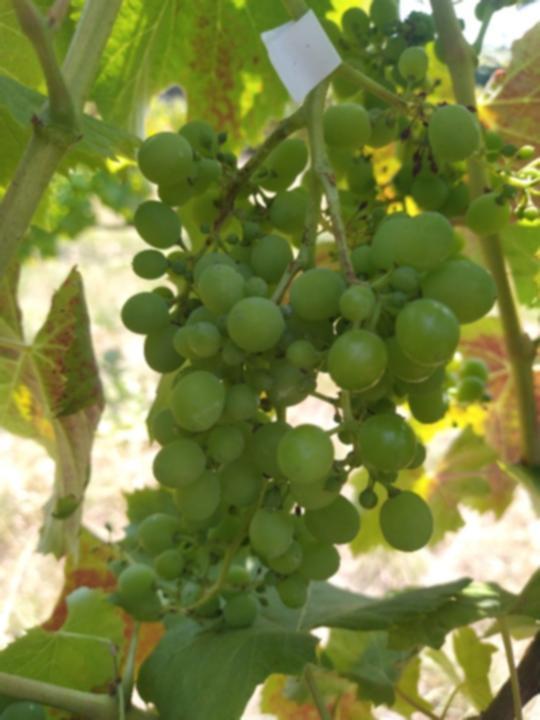grape: (116, 46, 499, 631)
